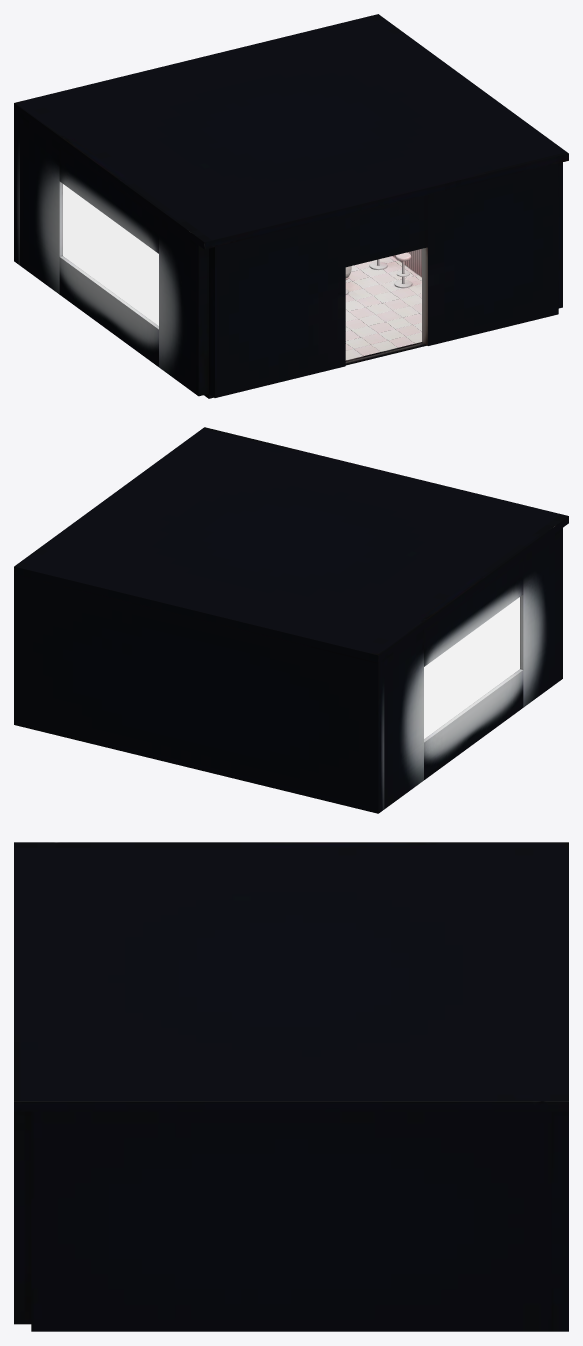
Rendered from room_kitty_m.glb.
The picture shows the model from 3 angles, top to bottom: view 1: azimuth 30°, elevation 25°; view 2: azimuth 150°, elevation 25°; view 3: azimuth 270°, elevation 25°; orthographic projection. The views are drawn at different scales.
Parts seen in each view (by area): view 1: baked_ceiling, baked_walls, window_glass, baked_floor, baked_furn; view 2: baked_walls, baked_ceiling, window_glass; view 3: baked_ceiling, baked_walls.
Boxes of the visible parts, left/top/right/bottom form: baked_ceiling: left=14, top=14, right=568, bottom=249; baked_walls: left=14, top=110, right=562, bottom=397; window_glass: left=63, top=184, right=158, bottom=325; baked_floor: left=204, top=256, right=426, bottom=398; baked_furn: left=345, top=249, right=421, bottom=294; baked_walls: left=14, top=528, right=562, bottom=813; baked_ceiling: left=14, top=427, right=568, bottom=662; window_glass: left=424, top=597, right=519, bottom=738; baked_ceiling: left=14, top=842, right=568, bottom=1111; baked_walls: left=14, top=1111, right=568, bottom=1331.
Size of the model in its own units: 10.6 by 4.54 by 9.6.
8 materials, 4 textured.
